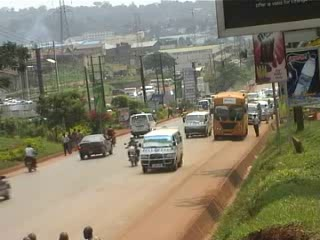Car: (77, 131, 115, 162), (0, 170, 12, 204)
Motorcycle: (123, 140, 142, 168), (22, 147, 41, 174), (104, 130, 119, 149)
